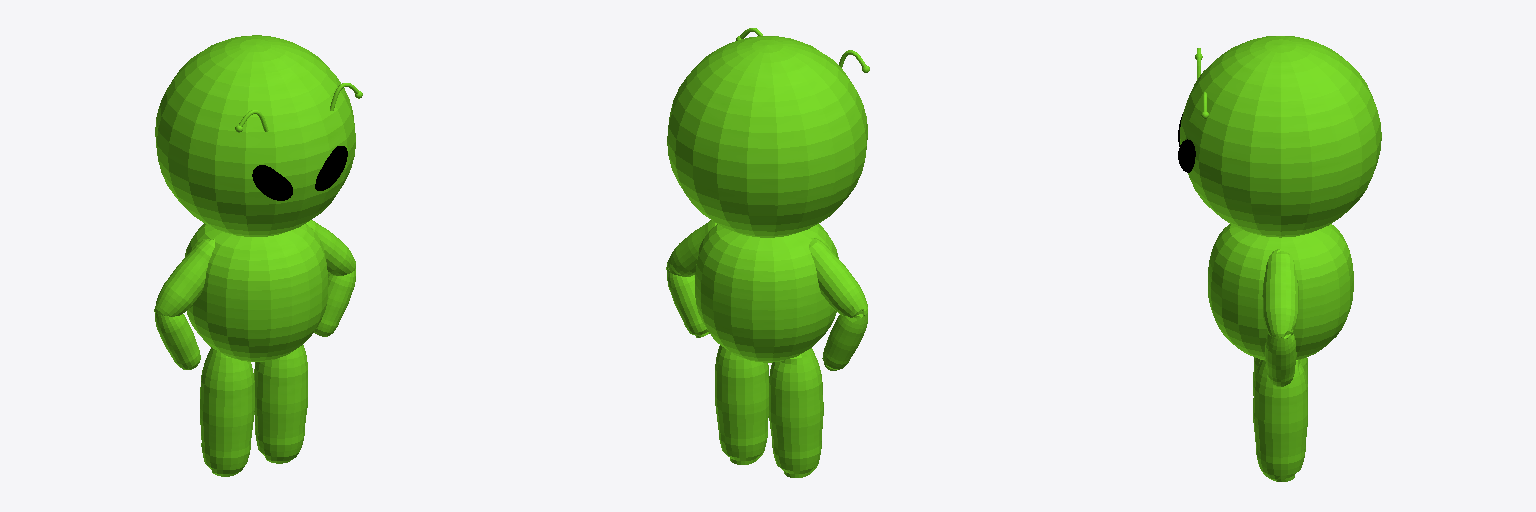
The picture shows the model from 3 angles: view 1: azimuth 30°, elevation 25°; view 2: azimuth 150°, elevation 25°; view 3: azimuth 270°, elevation 25°; orthographic projection.
Visible parts, largest first — view 1: pSphere1, pasted__pSphere1 group5, pSphere6, pSphere7, pSphere9, pSphere10, pSphere11, pSphere8, pSphere5, pSphere4; view 2: pSphere1, pasted__pSphere1 group5, pSphere6, pSphere7, pSphere9, pSphere10, pSphere11, pSphere8; view 3: pSphere1, pasted__pSphere1 group5, pSphere7, pSphere8, pSphere11.
Part boxes in pixels (bbox=[...]): pSphere1: bbox=[155, 35, 355, 236]; pasted__pSphere1 group5: bbox=[185, 223, 327, 361]; pSphere6: bbox=[200, 347, 254, 476]; pSphere7: bbox=[254, 345, 307, 463]; pSphere9: bbox=[154, 239, 214, 316]; pSphere10: bbox=[155, 313, 200, 369]; pSphere11: bbox=[314, 269, 355, 336]; pSphere8: bbox=[306, 220, 355, 275]; pSphere5: bbox=[252, 165, 292, 200]; pSphere4: bbox=[315, 146, 347, 190]; pSphere1: bbox=[667, 36, 867, 237]; pasted__pSphere1 group5: bbox=[695, 224, 838, 362]; pSphere6: bbox=[769, 348, 823, 477]; pSphere7: bbox=[715, 345, 768, 464]; pSphere9: bbox=[809, 238, 867, 318]; pSphere10: bbox=[822, 310, 867, 370]; pSphere11: bbox=[667, 267, 709, 337]; pSphere8: bbox=[666, 220, 716, 276]; pSphere1: bbox=[1180, 36, 1381, 237]; pasted__pSphere1 group5: bbox=[1208, 224, 1353, 359]; pSphere7: bbox=[1253, 360, 1307, 481]; pSphere8: bbox=[1262, 249, 1298, 338]; pSphere11: bbox=[1265, 334, 1296, 386].
Size of the model in its own units: 0.9621 by 1.95 by 0.8525.
Materials: 2 (2 with a texture image).